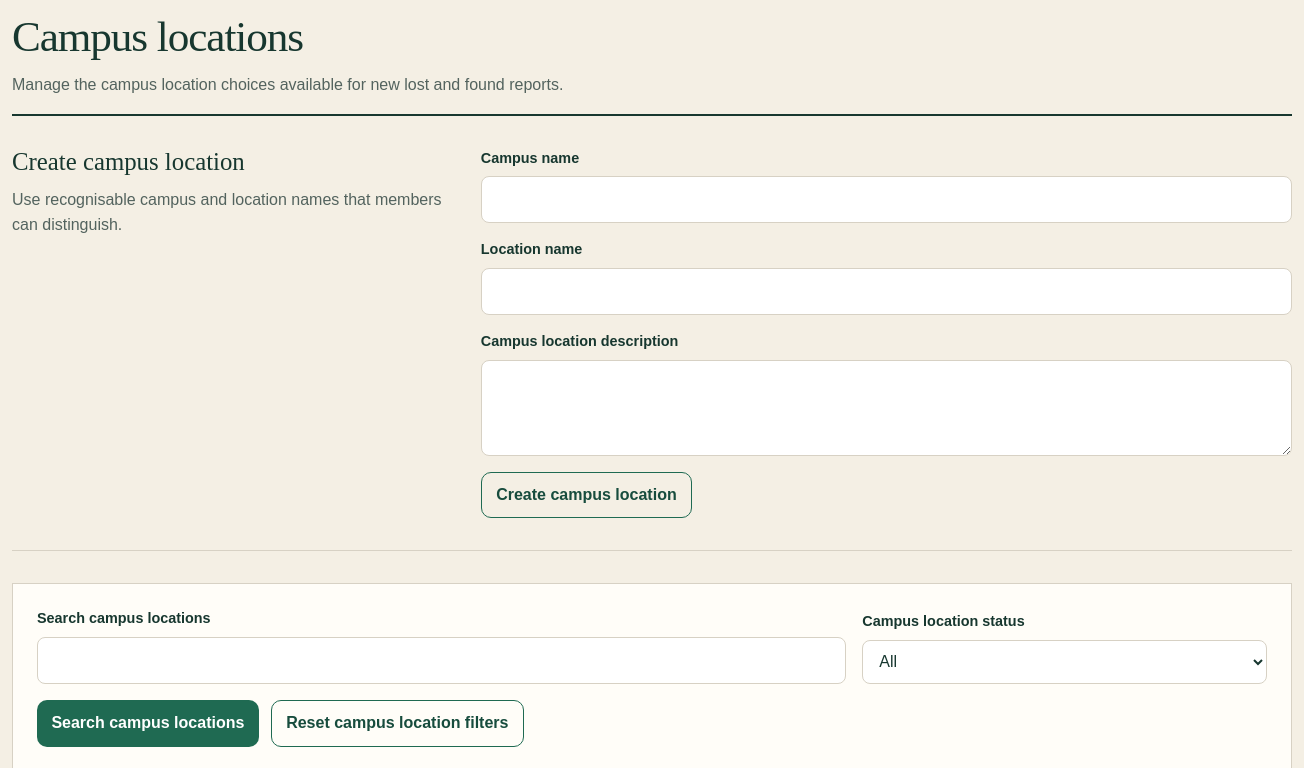
Test: uses safe list and mutation failures without exposing raw errors
In the field labelled "Campus name": (886, 200) [481,176,1292,223], type "Albany"
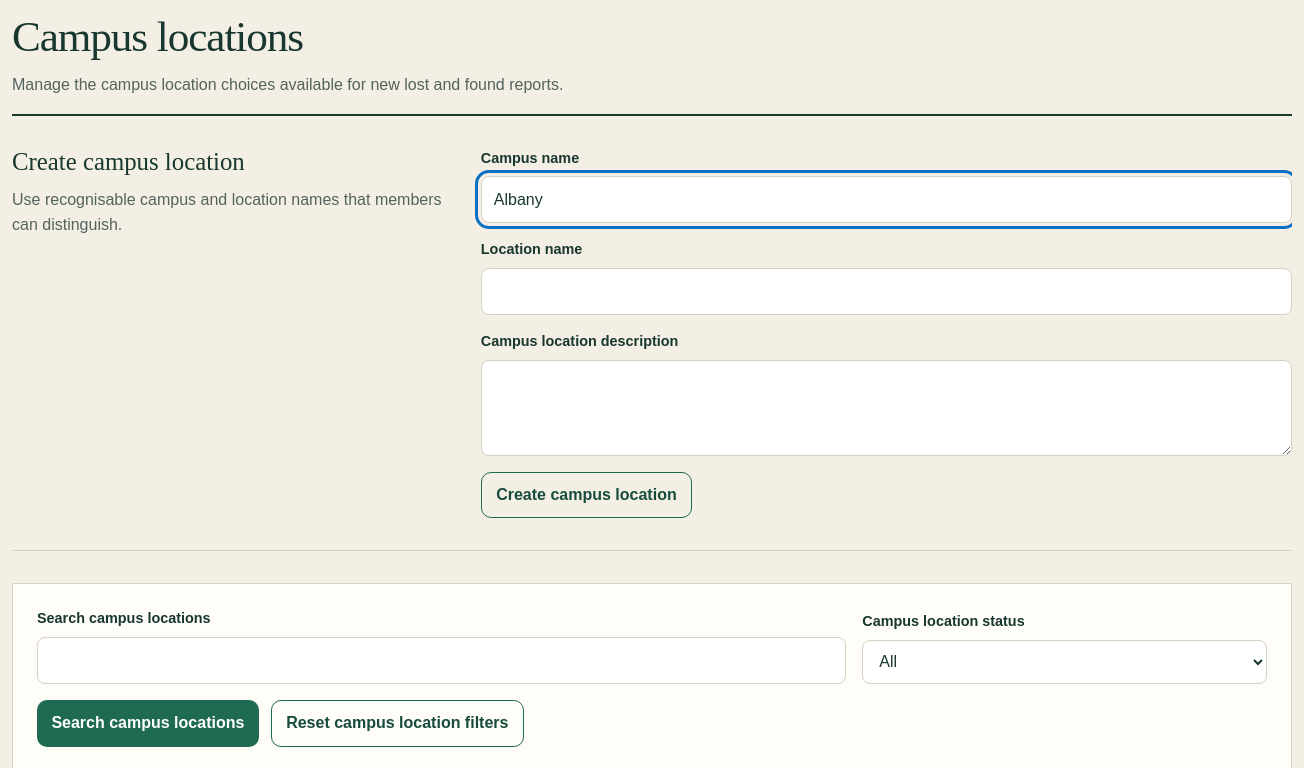
In the field labelled "Location name": (886, 291) [481,268,1292,315], type "Phone collection desk"
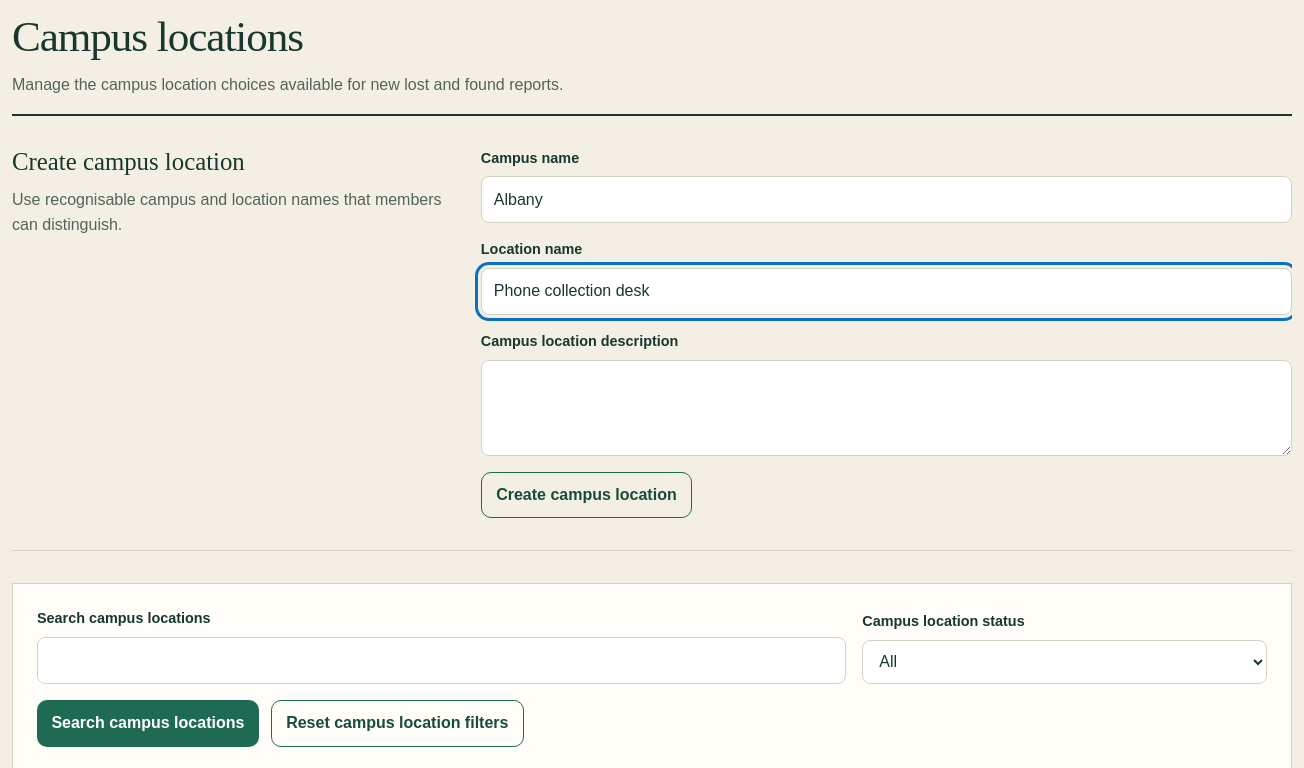
Click the button "Create campus location": (586, 495) [481,472,692,518]
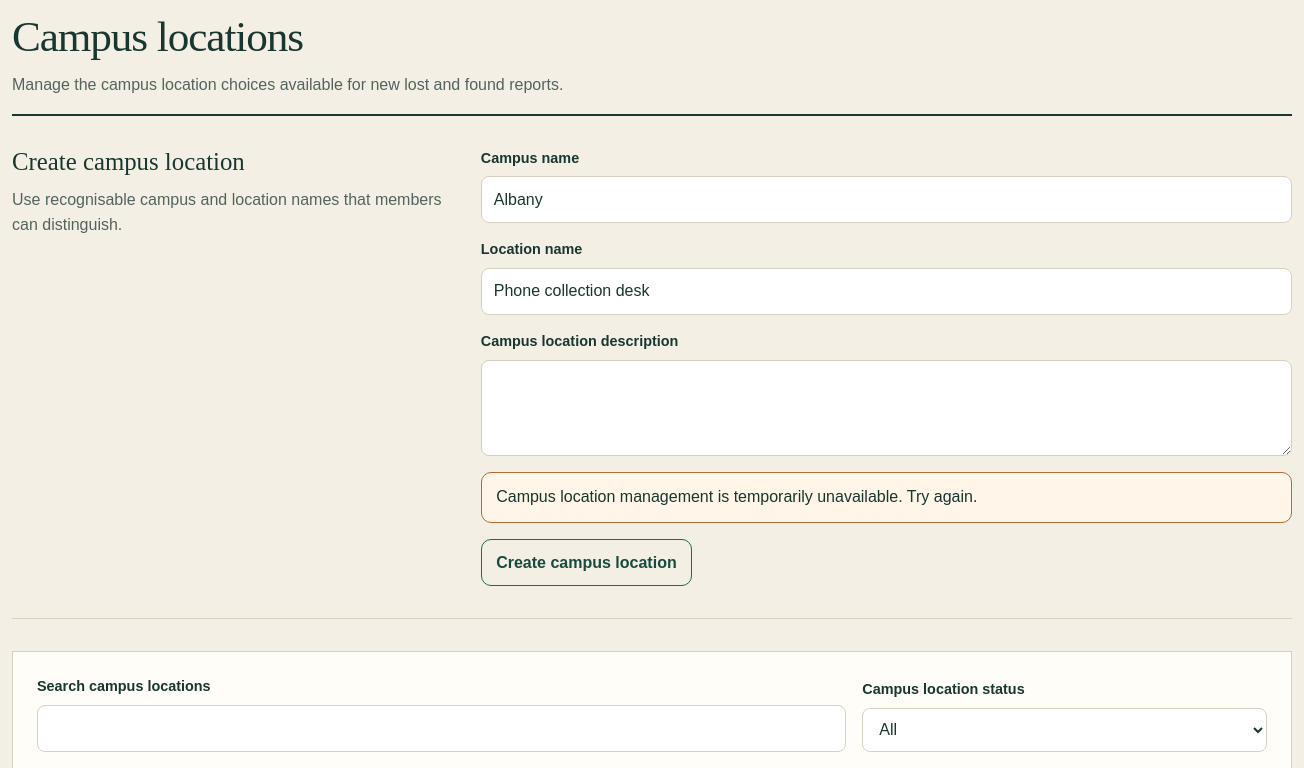
Check: the message reads "Campus location management is temporarily unavailable. Try again.", box [496,488,977,505]
